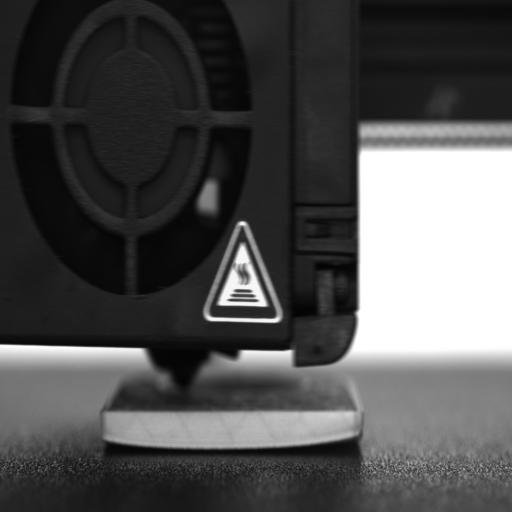warp: (287, 426, 367, 454), (96, 430, 173, 456)
